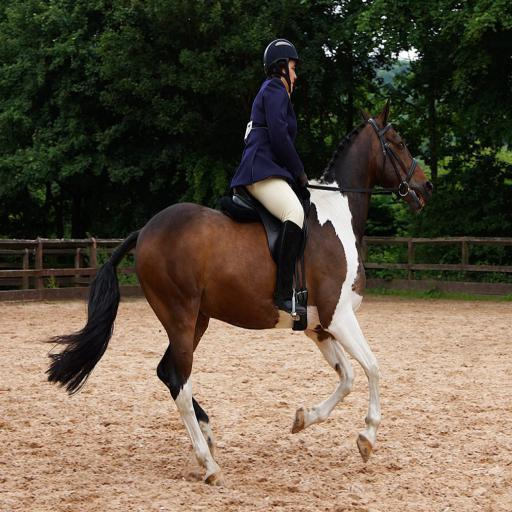horse: (42, 94, 436, 490)
